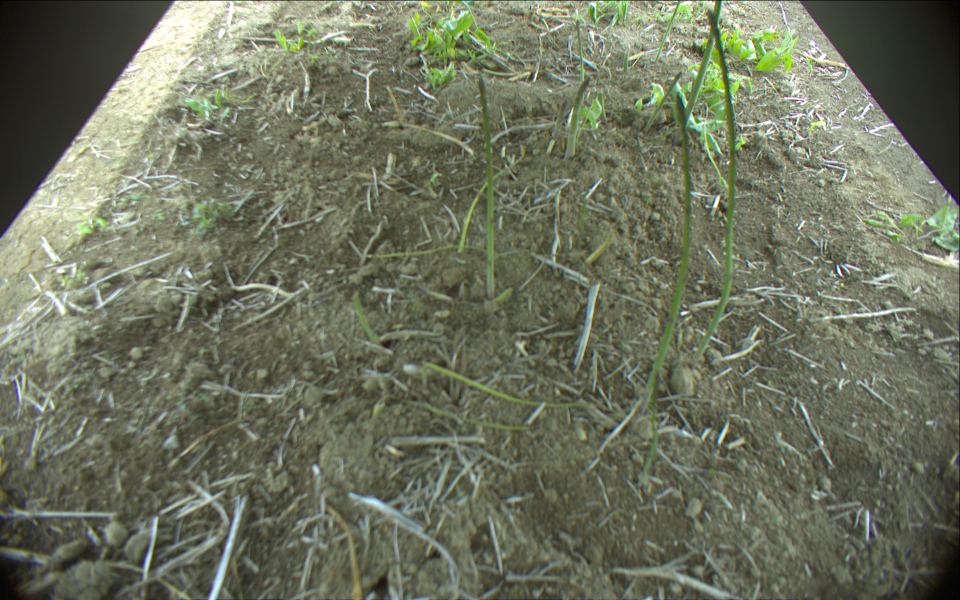aspa: (689, 10, 741, 368), (641, 91, 687, 405), (419, 363, 604, 411), (456, 158, 524, 251), (476, 77, 501, 293), (684, 1, 723, 121), (404, 403, 521, 431), (644, 74, 684, 132), (365, 237, 470, 258), (567, 76, 592, 158), (636, 420, 667, 482), (352, 292, 384, 350), (654, 2, 683, 63), (575, 18, 587, 82), (550, 98, 566, 139)
